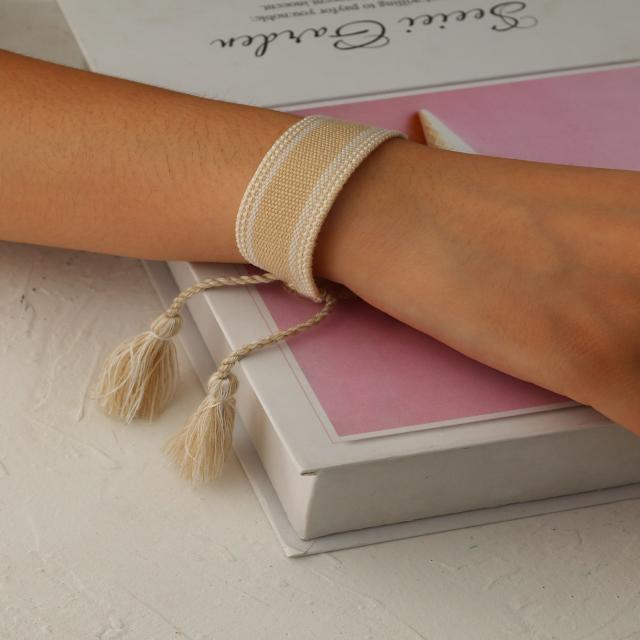bracelet: (2, 36, 429, 498)
